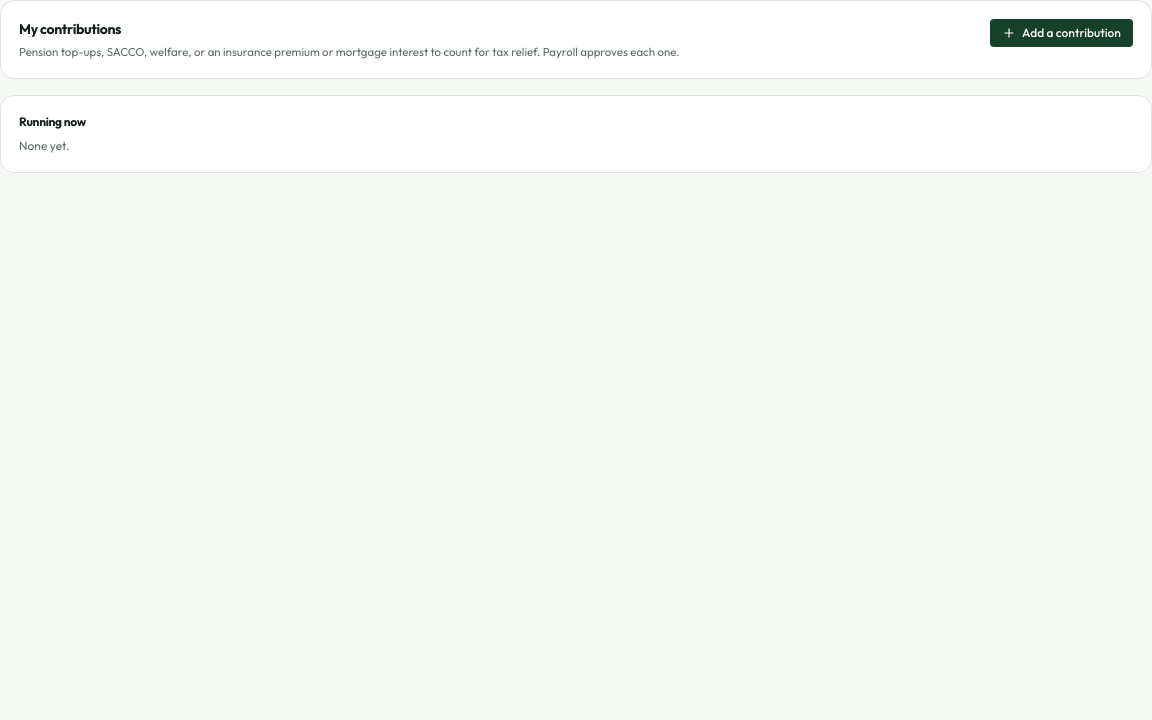
Test: My contributions (FIG-898) › asks for a contribution: checks the form, explains the tax effect, sends it
The width and height of the screenshot is (1152, 720).
Later steps or results of the test are not shown.
expect the text "None yet." is shown: met, box left=19, top=138, right=69, bottom=153
Click the button "Add a contribution".
click(1062, 33)  # box left=990, top=19, right=1133, bottom=47
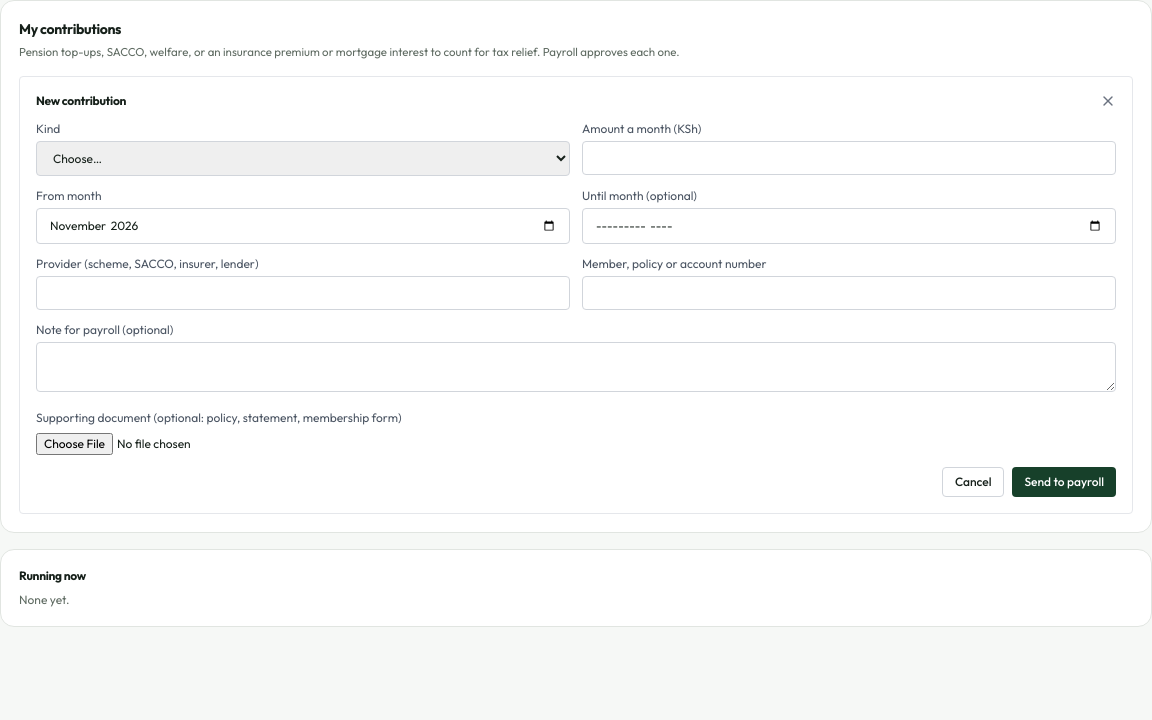
Click the button "Send to payroll".
click(1064, 482)  # box left=1012, top=467, right=1116, bottom=497
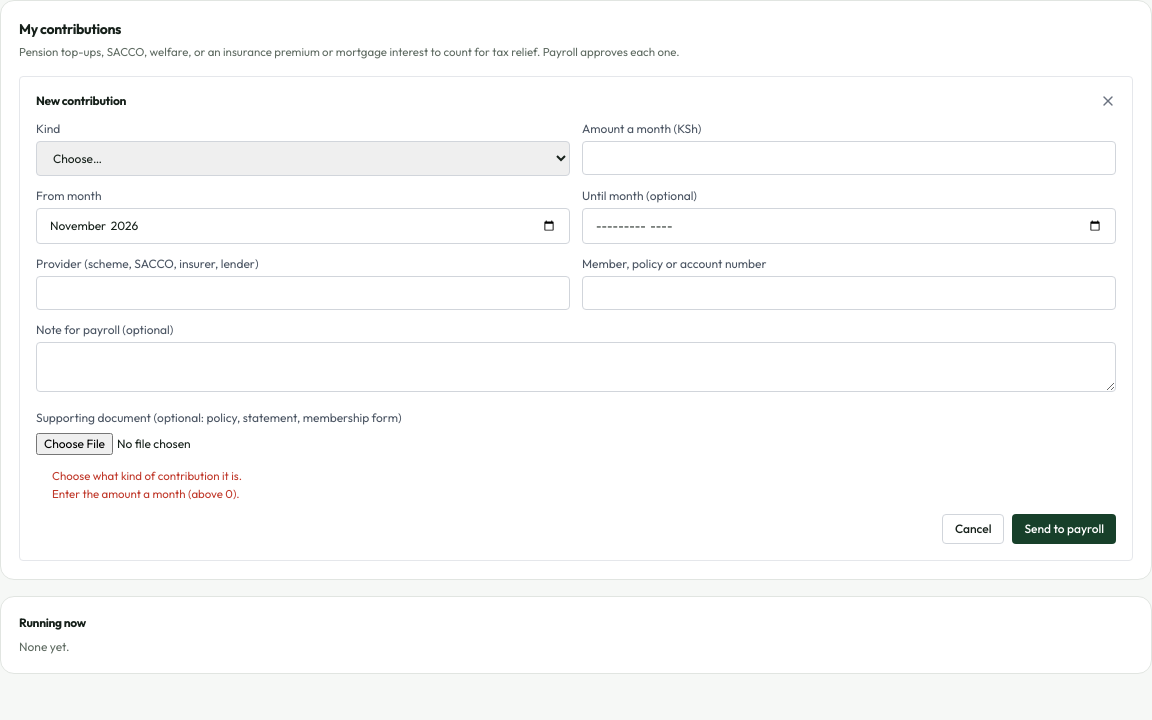
expect the message shows "Choose what kind": met, box left=52, top=468, right=242, bottom=483
Select "Insurance premium (for relief)" in the dropdown labelled "Kind" at (303, 159), box left=36, top=141, right=570, bottom=176
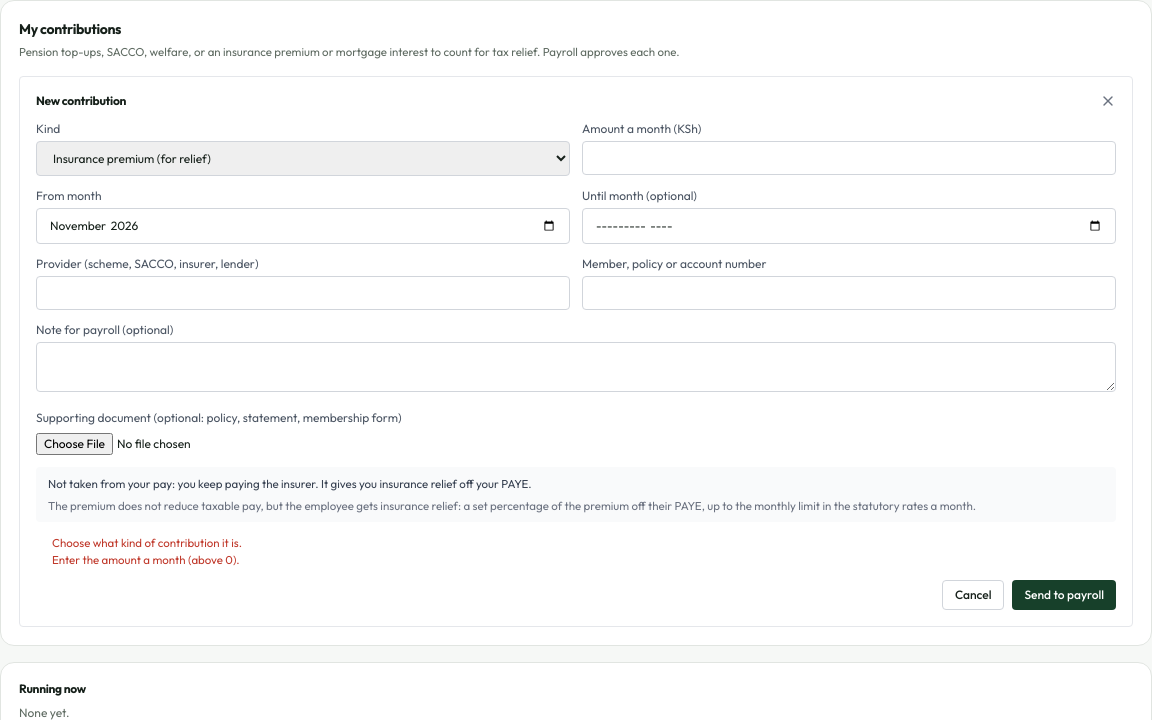
expect the element with test id "contribution-effect" shows "Not taken from your pay": met, box left=48, top=476, right=532, bottom=491
